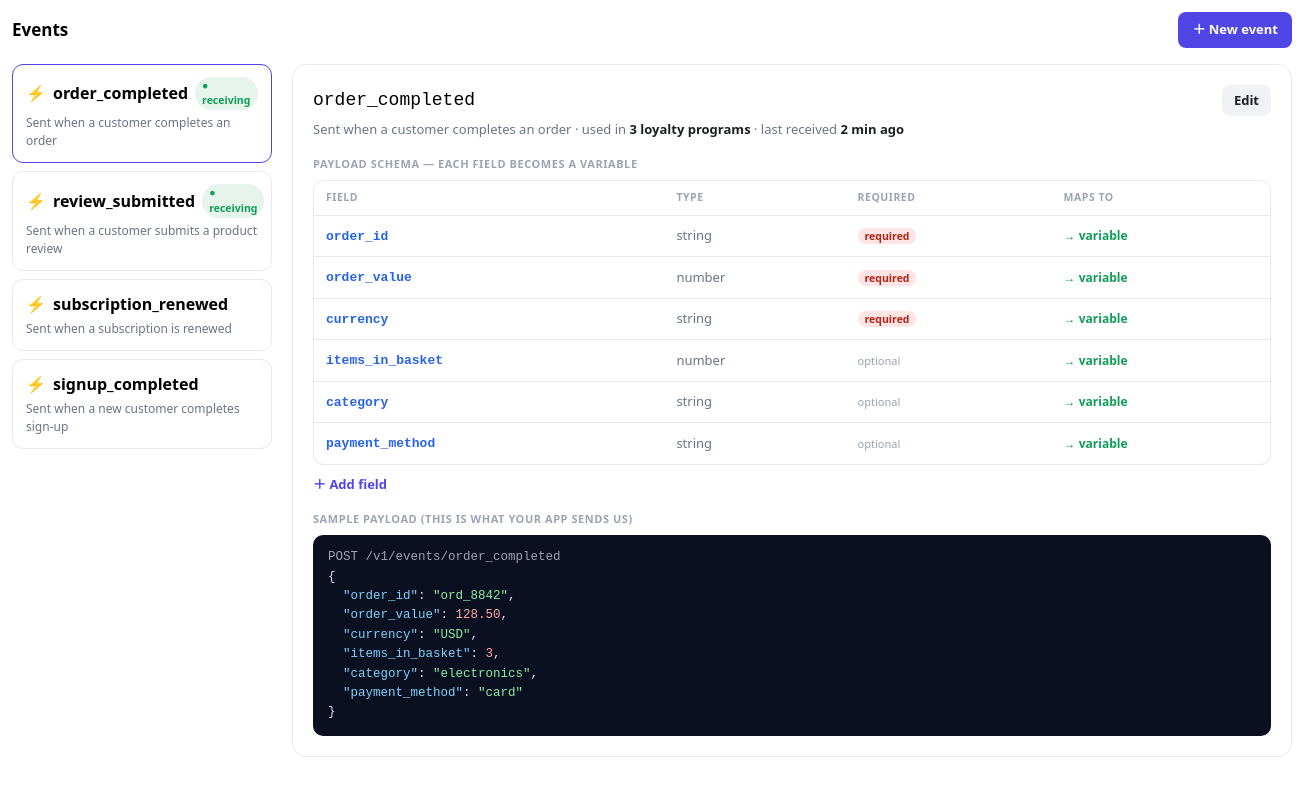
Test case: clicking subscription_renewed swaps detail to its fields and updates POST heading
The image size is (1304, 812).
# Click on subscription_renewed in the event list
Click the text "subscription_renewed": (141, 304) [53,292,228,316]
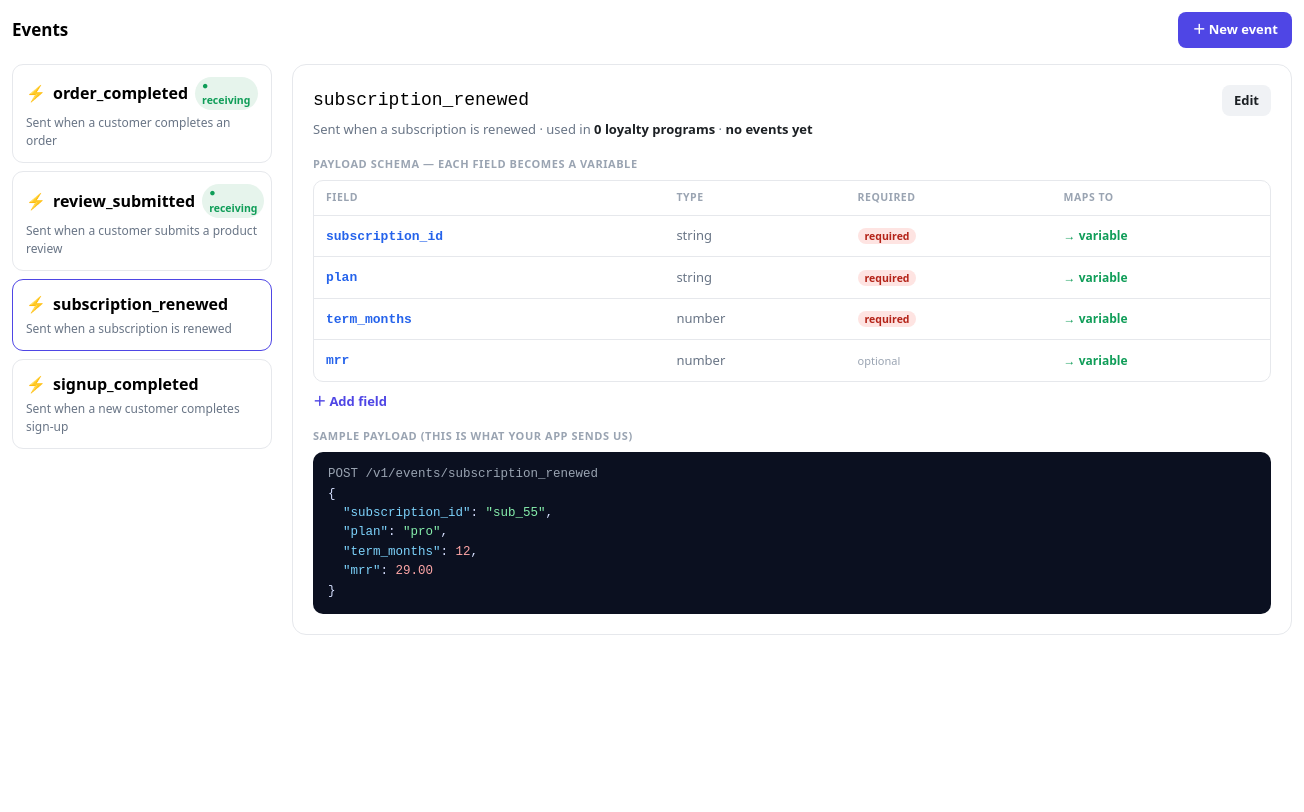
Now the text "plan" is shown, box [326,270,357,285]
Now the text "term_months" is shown, box [326,312,412,327]
Now the text "mrr" is shown, box [326,353,349,368]
